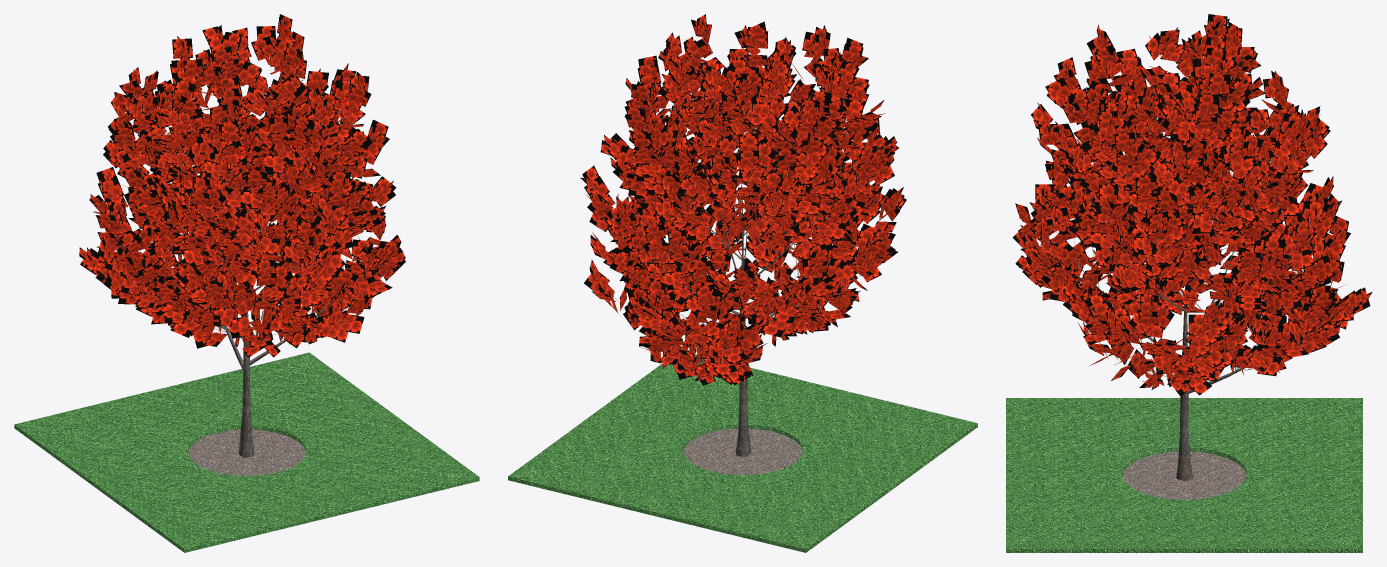
Rendered from maple_tree.gltf.
The picture shows the model from 3 angles, left to right: view 1: azimuth 30°, elevation 25°; view 2: azimuth 150°, elevation 25°; view 3: azimuth 270°, elevation 25°; orthographic projection. The views are drawn at different scales.
Visible parts, largest first — view 1: Material2 (×3); view 2: Material2 (×3); view 3: Material2 (×3).
Boxes of the visible parts, left/top/right/bottom form: Material2 (×3): left=14, top=246, right=479, bottom=552; Material2 (×3): left=508, top=230, right=977, bottom=552; Material2 (×3): left=1006, top=285, right=1362, bottom=552.
Size of the model in its own units: 242 by 325 by 247.
Materials: 4 (4 with a texture image).
